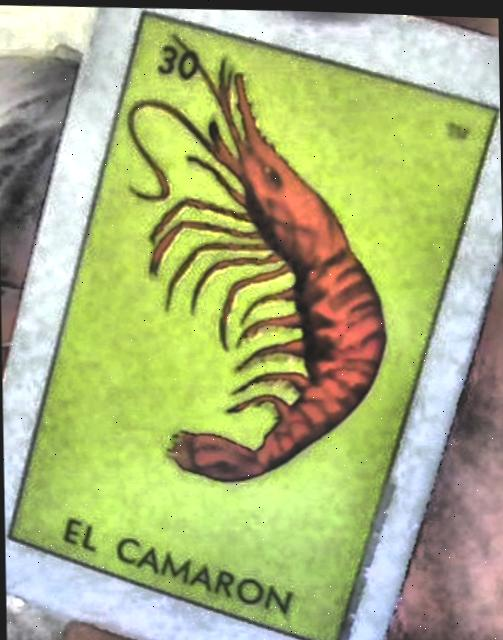El Camaron: (4, 9, 488, 640)
